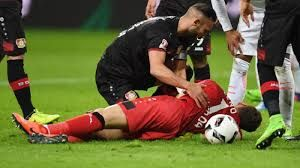fall: (1, 76, 270, 145)
